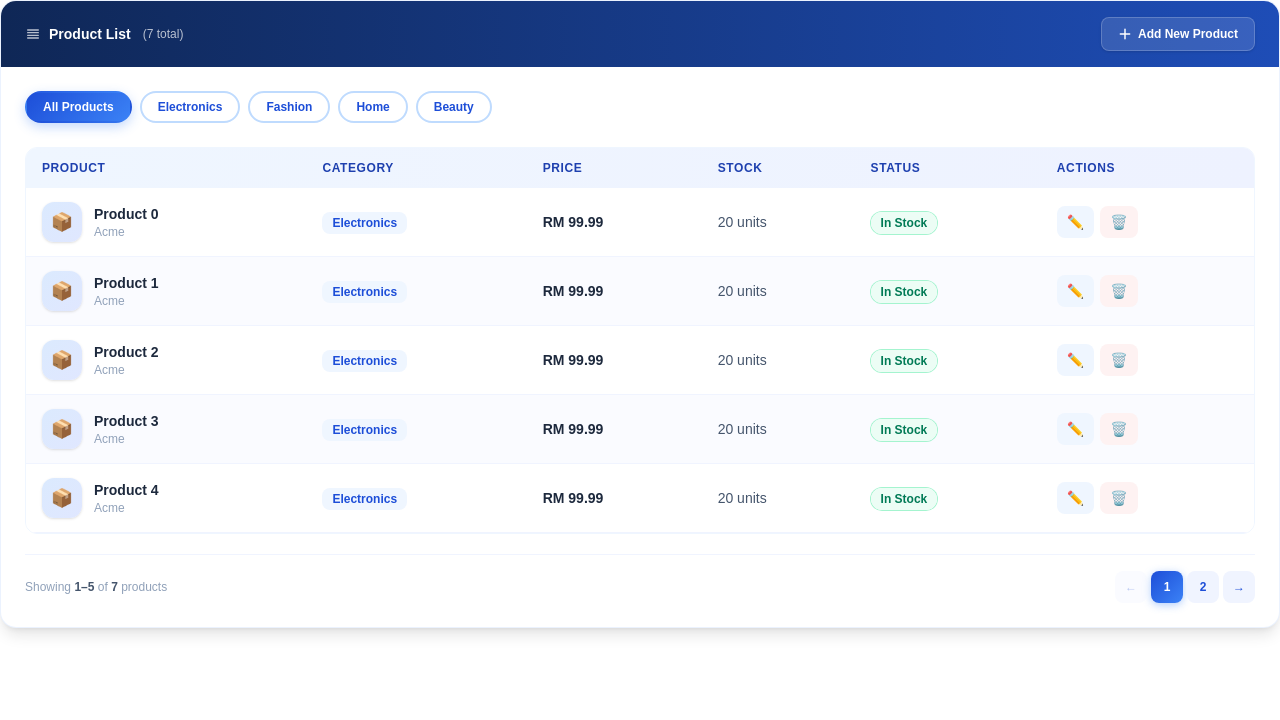
Test: ProductsTable — pagination › navigates back to page 1 on ← click
Step 1. Click the button "→" → (1239, 587), box x1=1223 y1=571 x2=1255 y2=603
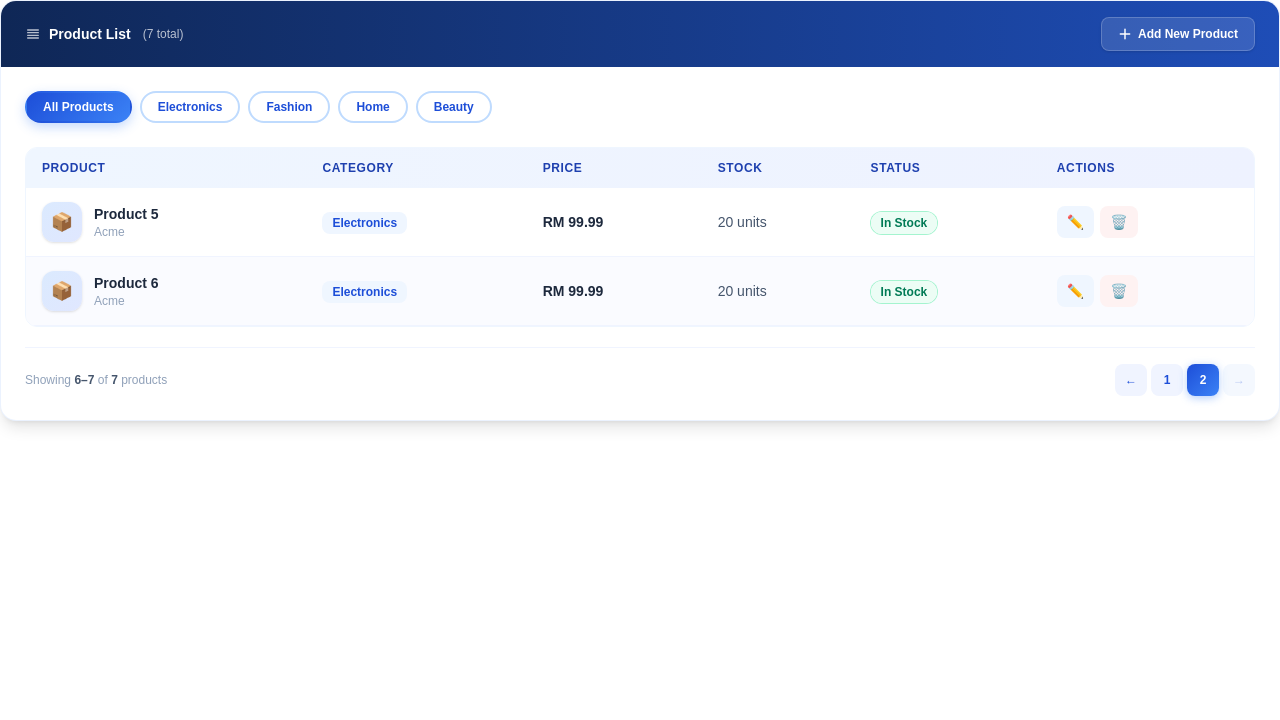
Step 2. Click the button "←" → (1131, 380), box x1=1115 y1=364 x2=1147 y2=396
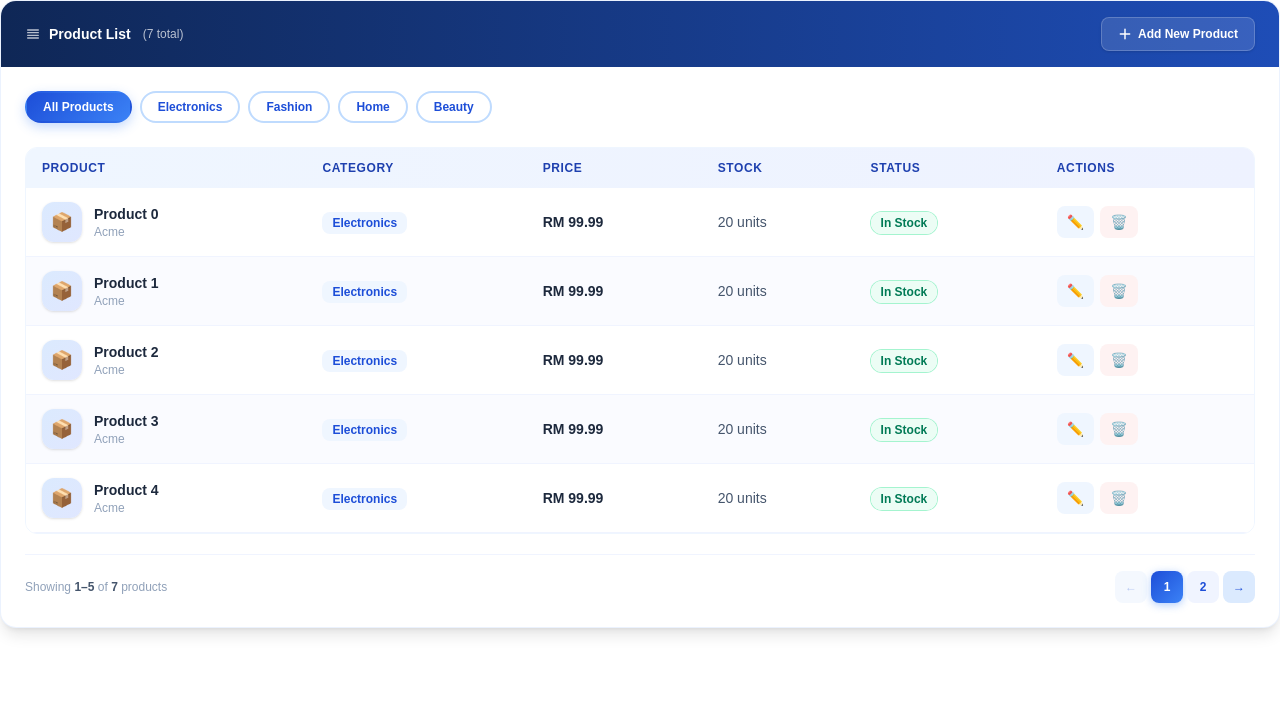
Check: the text "Product 0" is shown, box x1=94 y1=204 x2=159 y2=224
